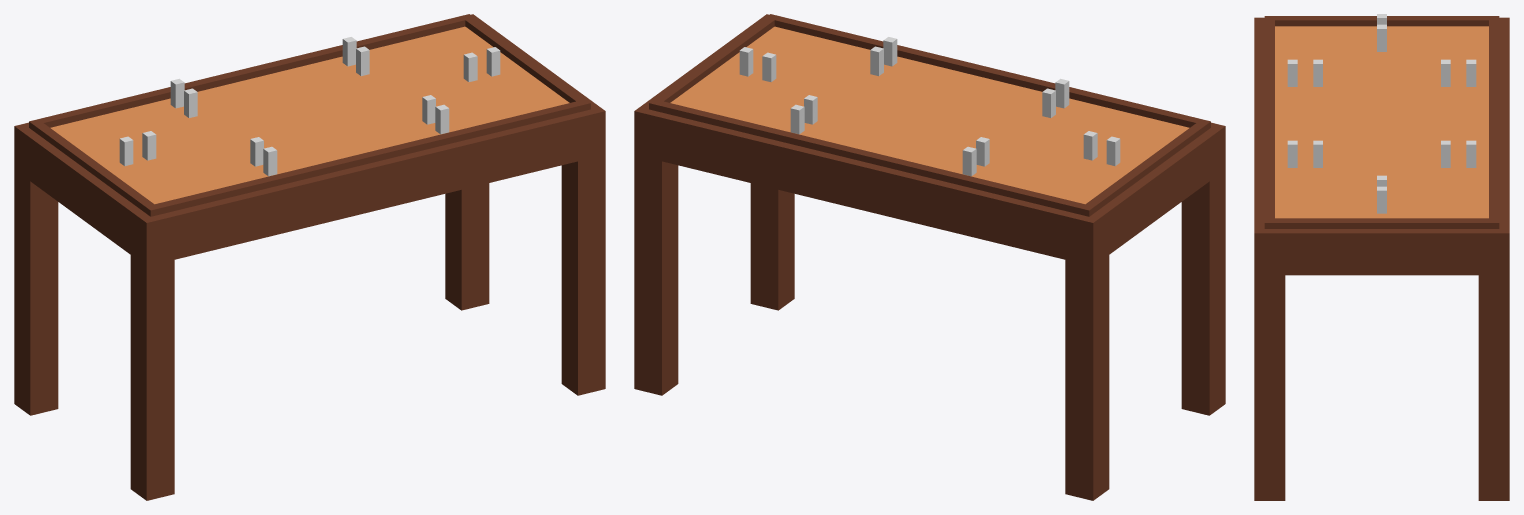
Rendered from Crafting Bench.fbx.
The picture shows the model from 3 angles, left to right: view 1: azimuth 30°, elevation 25°; view 2: azimuth 150°, elevation 25°; view 3: azimuth 270°, elevation 25°; orthographic projection. The views are drawn at different scales.
Parts seen in each view (by area): view 1: Crafting Bench, Checkpoint 1, Checkpoint 4, Checkpoint 3, Checkpoint 6, Checkpoint 2, Checkpoint 5; view 2: Crafting Bench, Checkpoint 1, Checkpoint 4, Checkpoint 5, Checkpoint 2, Checkpoint 6, Checkpoint 3; view 3: Crafting Bench, Checkpoint 2, Checkpoint 3, Checkpoint 5, Checkpoint 6, Checkpoint 4, Checkpoint 1.
Part boxes in pixels (x1,y1,x2,y2): Crafting Bench: [14, 14, 605, 500]; Checkpoint 1: [119, 131, 156, 166]; Checkpoint 4: [463, 47, 500, 81]; Checkpoint 3: [422, 95, 449, 134]; Checkpoint 6: [250, 137, 277, 176]; Checkpoint 2: [170, 78, 197, 117]; Checkpoint 5: [342, 37, 369, 76]; Crafting Bench: [634, 14, 1225, 500]; Checkpoint 1: [1083, 131, 1120, 166]; Checkpoint 4: [739, 47, 776, 81]; Checkpoint 5: [790, 95, 817, 134]; Checkpoint 2: [962, 137, 989, 176]; Checkpoint 6: [1042, 78, 1069, 117]; Checkpoint 3: [870, 37, 897, 76]; Crafting Bench: [1254, 16, 1509, 500]; Checkpoint 2: [1441, 59, 1476, 86]; Checkpoint 3: [1287, 140, 1322, 167]; Checkpoint 5: [1441, 140, 1476, 167]; Checkpoint 6: [1287, 59, 1322, 86]; Checkpoint 4: [1377, 175, 1386, 213]; Checkpoint 1: [1377, 14, 1386, 51].
Bounding box in the file's own units: 200 × 100 × 126.
